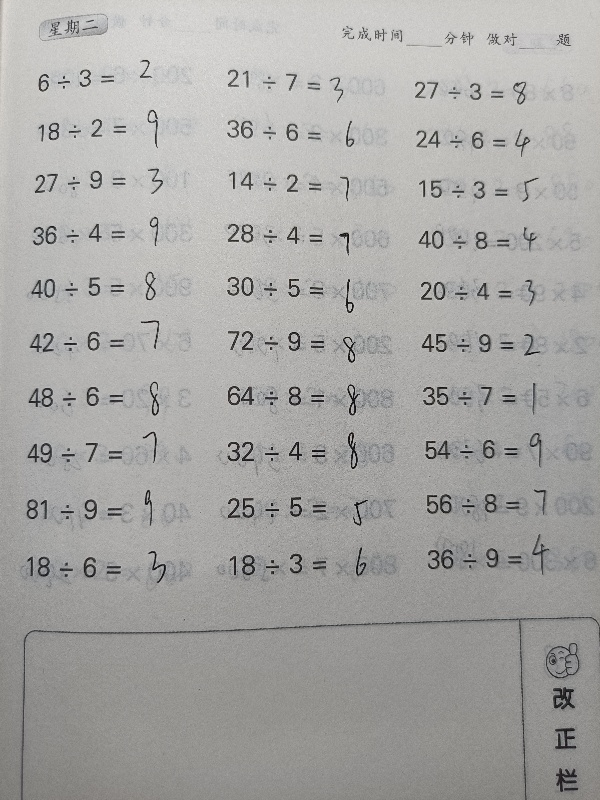equation: (27, 107, 197, 158), (408, 122, 588, 165), (218, 114, 394, 157), (221, 544, 401, 586), (22, 485, 185, 530), (25, 426, 181, 473), (31, 57, 184, 103), (217, 60, 361, 107), (13, 549, 193, 586), (419, 540, 599, 577), (218, 489, 398, 526), (405, 70, 553, 114), (418, 486, 598, 522), (410, 170, 556, 214), (219, 434, 399, 469), (417, 432, 597, 467), (19, 379, 199, 414), (218, 378, 398, 413), (21, 324, 201, 359), (219, 323, 399, 358), (22, 270, 202, 305), (218, 269, 398, 304), (218, 217, 398, 252), (415, 379, 595, 413), (413, 325, 593, 359), (412, 274, 592, 308), (410, 223, 590, 257), (24, 216, 204, 250), (220, 165, 400, 199), (26, 163, 206, 197)
